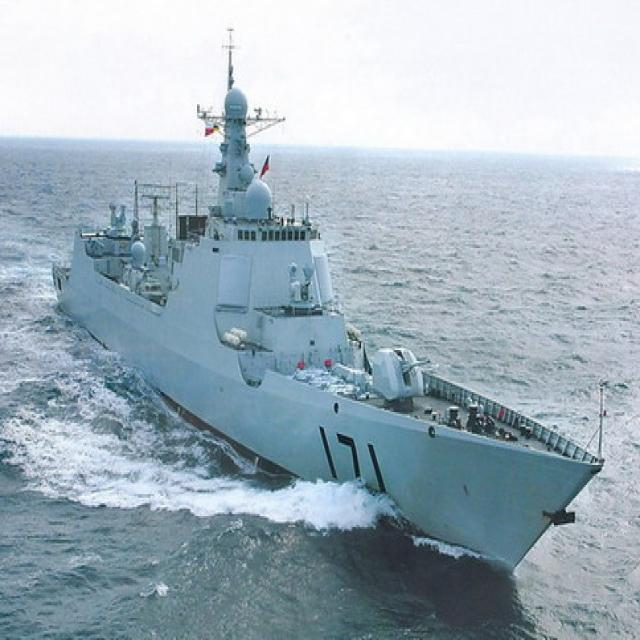navalvessels: (53, 39, 606, 592)
